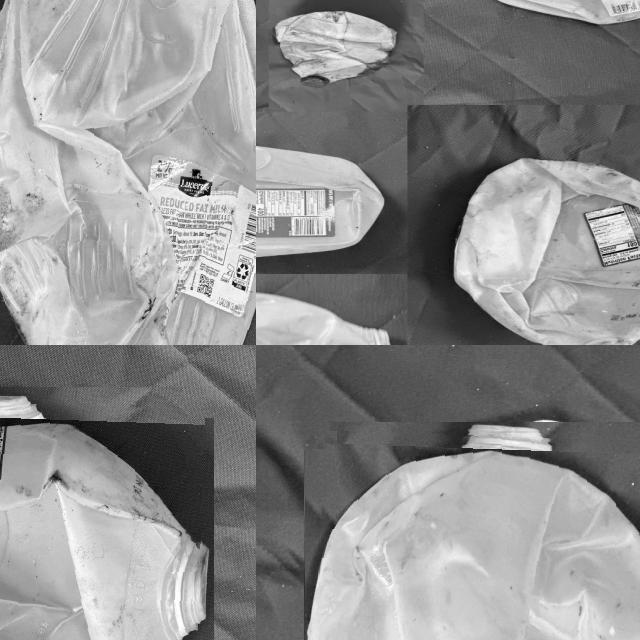milk-jug: (0, 0, 256, 345), (314, 432, 640, 640), (0, 398, 202, 640), (452, 158, 640, 345), (256, 137, 382, 257), (268, 10, 400, 90), (256, 288, 388, 345)
